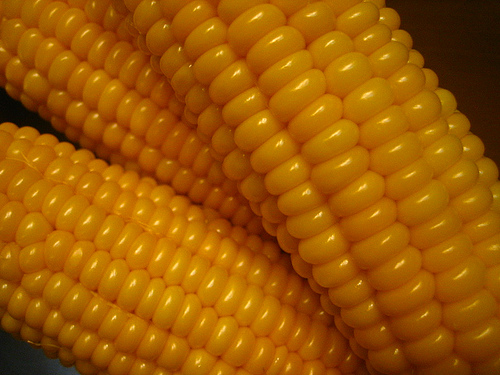corn: (122, 0, 499, 374), (0, 123, 366, 374)
